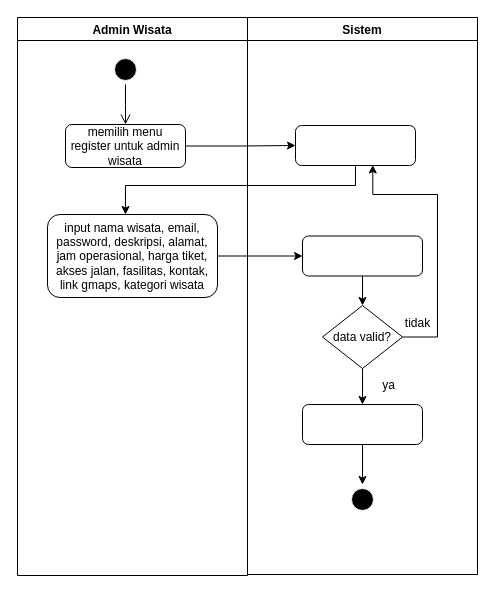
Image size: 495x593. Some labels were removed from this diagram. Each missing label, with the centre of its shape:
menampilkan halaman login: pixel 362 424
menampilkan halaman registrasi: pixel 355 145
validiasi akun: pixel 362 255
